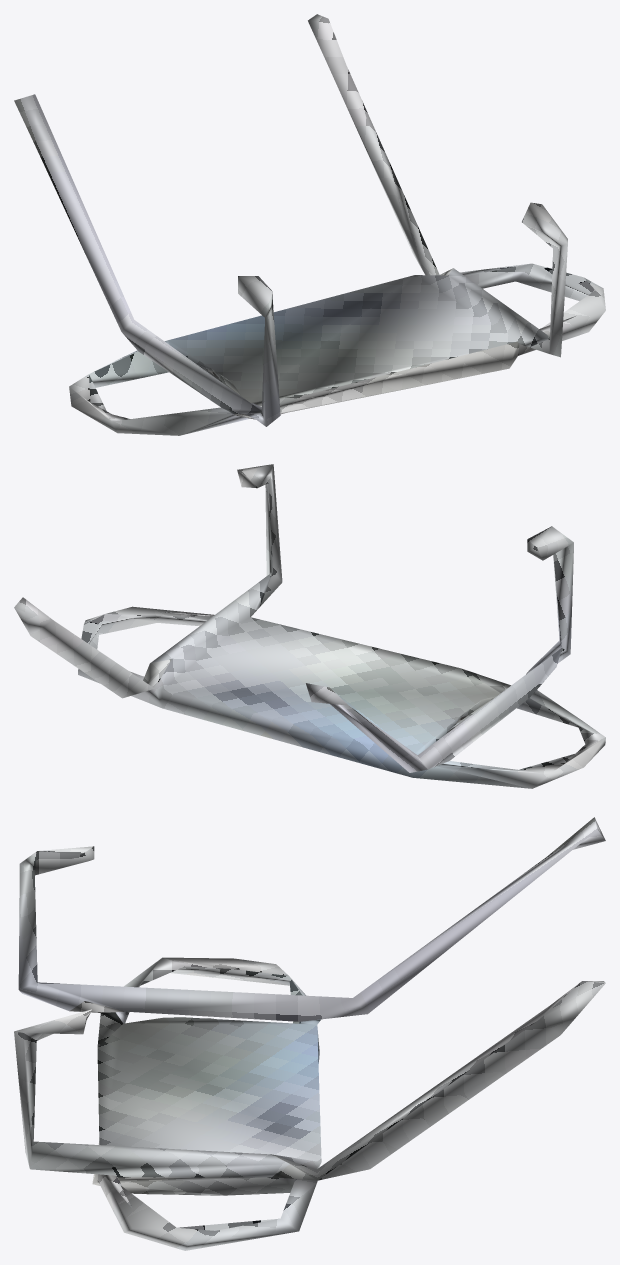
The model's file is Spectrum_Wall_Mount-low.glb.
The picture shows the model from 3 angles, top to bottom: view 1: azimuth 30°, elevation 25°; view 2: azimuth 150°, elevation 25°; view 3: azimuth 270°, elevation 25°; orthographic projection. The views are drawn at different scales.
Parts seen in each view (by area): view 1: Spectrum_Wall_Mount; view 2: Spectrum_Wall_Mount; view 3: Spectrum_Wall_Mount.
Boxes of the visible parts, left/top/right/bottom form: Spectrum_Wall_Mount: left=14, top=14, right=605, bottom=435; Spectrum_Wall_Mount: left=14, top=464, right=605, bottom=788; Spectrum_Wall_Mount: left=14, top=817, right=605, bottom=1250.
Size of the model in its own units: 0.1598 by 0.059 by 0.1371.
1 material, 1 textured.
